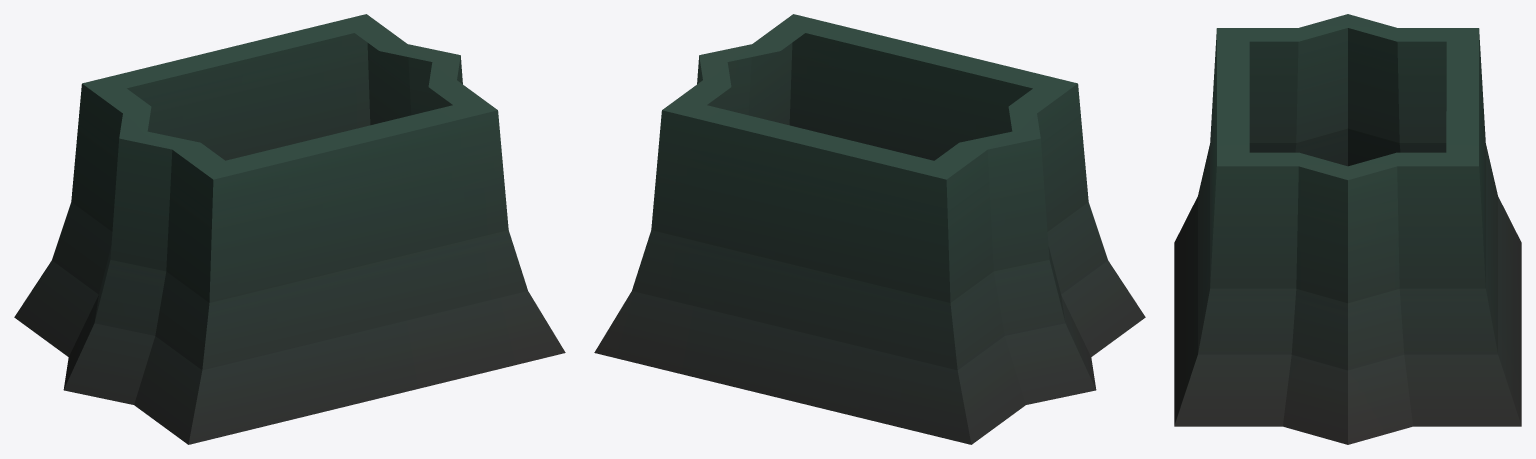
File: SM_PillarBottom_01.fbx
3 views of the same model, side by side, from view 1: azimuth 30°, elevation 25°; view 2: azimuth 150°, elevation 25°; view 3: azimuth 270°, elevation 25° (orthographic).
Visible parts, largest first — view 1: SM_PillarBottom_01; view 2: SM_PillarBottom_01; view 3: SM_PillarBottom_01.
Part boxes in pixels (x1,y1,x2,y2): SM_PillarBottom_01: (14,14,565,444); SM_PillarBottom_01: (594,14,1145,444); SM_PillarBottom_01: (1174,14,1521,444).
Size of the model in its own units: 398 by 200 by 265.
1 material, 1 textured.
